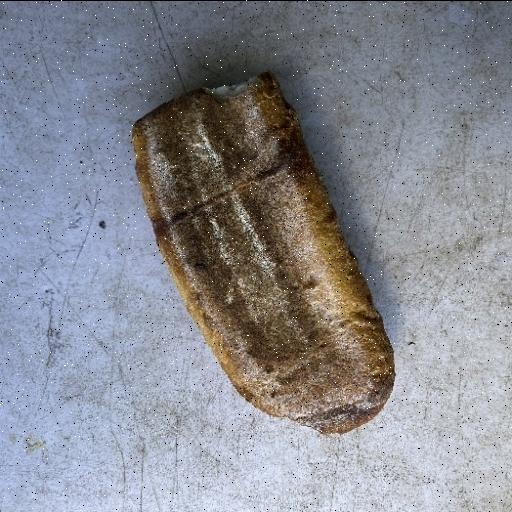Waste: (129, 70, 397, 436)
